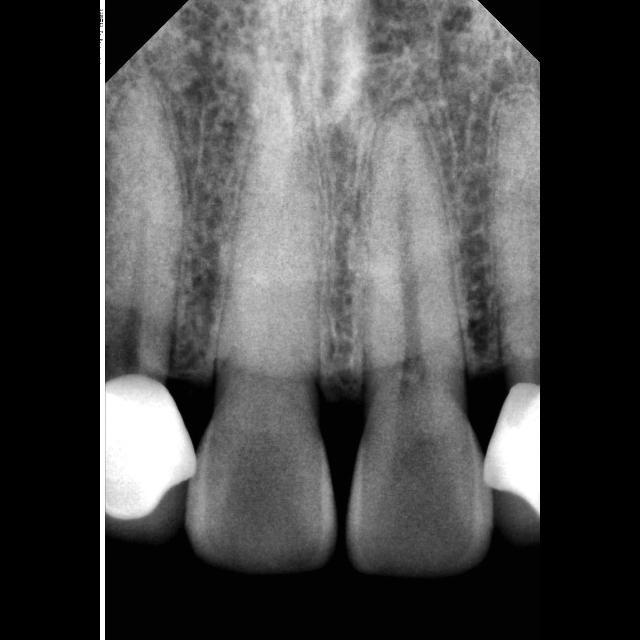tooth: (186, 72, 336, 572), (348, 104, 493, 572)
